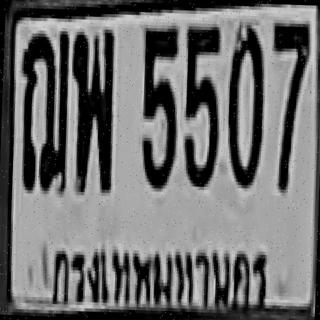A12: (16, 28, 70, 193)
A30: (67, 27, 115, 191)
N00: (223, 23, 264, 187)
N05: (139, 23, 178, 187), (182, 23, 220, 187)
N07: (267, 20, 308, 190), (268, 20, 308, 143), (269, 19, 308, 128)
P04: (43, 224, 276, 320)
